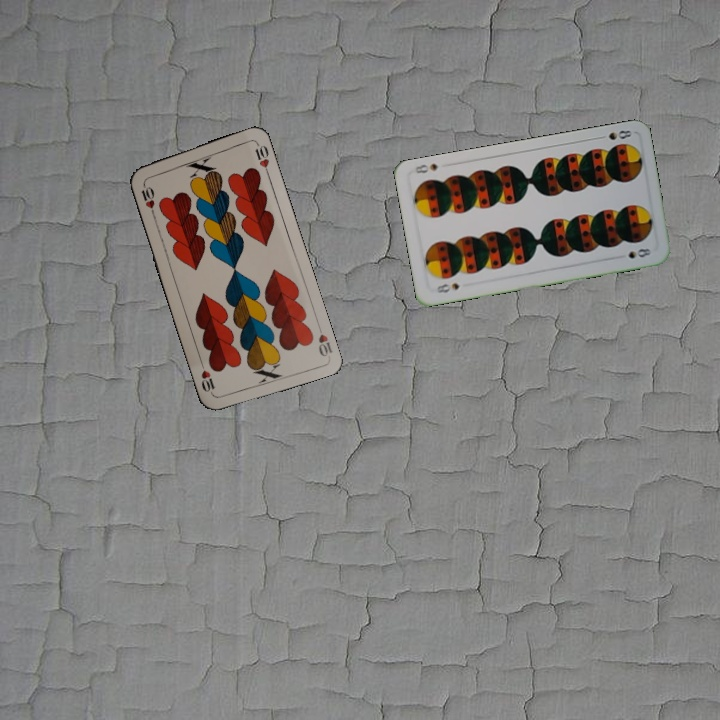H10: (313, 320, 335, 359), (137, 178, 157, 218)
S8: (594, 126, 634, 143), (432, 279, 462, 295)
